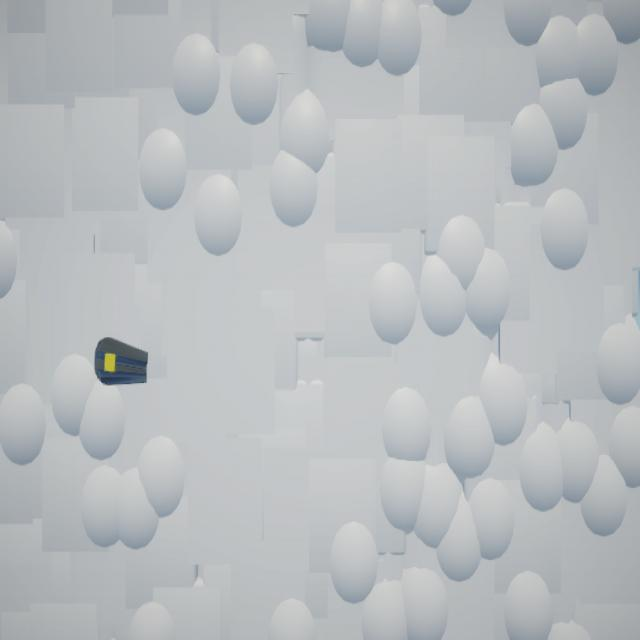handle_folk: (95, 338, 150, 387)
